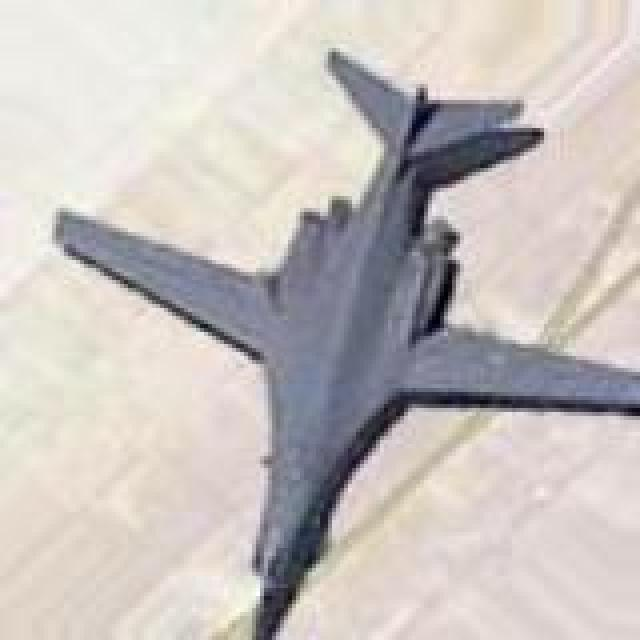B-1_TopDown: (48, 40, 636, 636)
